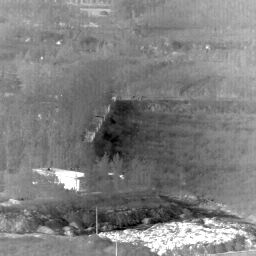aircraft: (90, 50, 92, 52)
